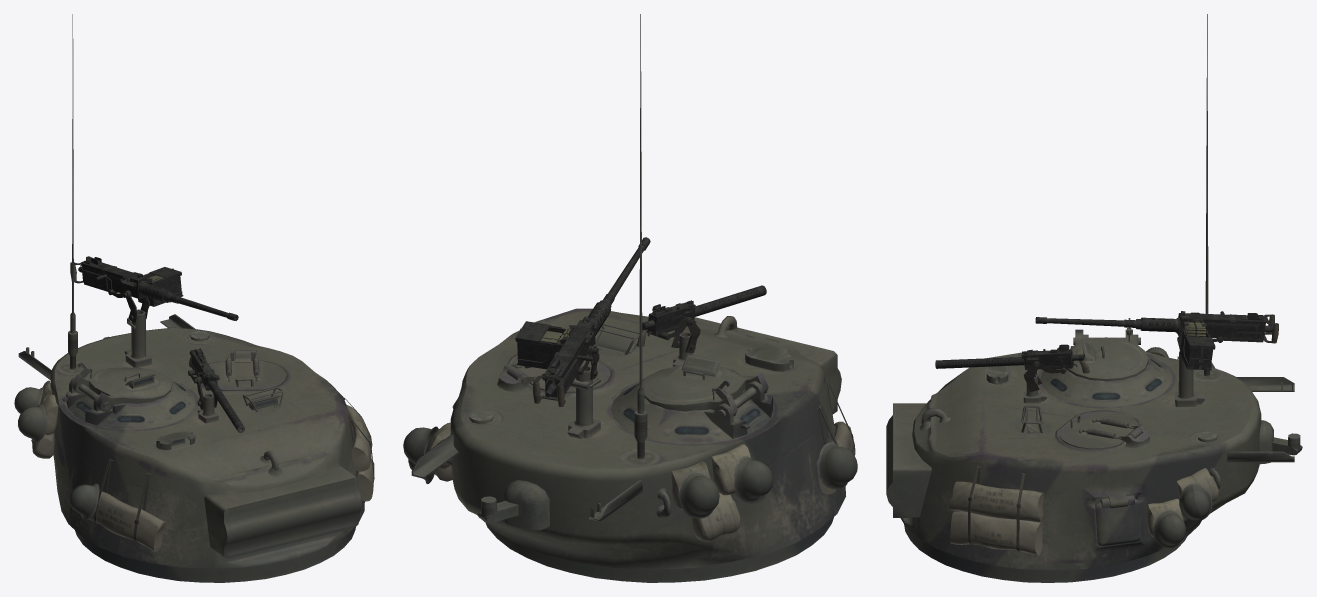
Rendered from FuryTurret.fbx.
3 views of the same model, side by side, from view 1: azimuth 30°, elevation 25°; view 2: azimuth 150°, elevation 25°; view 3: azimuth 270°, elevation 25° (orthographic). The views are drawn at different scales.
Visible parts, largest first — view 1: american\A104_M4A3E8A\normal\l\Turret_01.pri~6~6; view 2: american\A104_M4A3E8A\normal\l\Turret_01.pri~6~6; view 3: american\A104_M4A3E8A\normal\l\Turret_01.pri~6~6.
Boxes of the visible parts, <box> form: american\A104_M4A3E8A\normal\l\Turret_01.pri~6~6: <box>14,14,374,582</box>; american\A104_M4A3E8A\normal\l\Turret_01.pri~6~6: <box>403,14,857,582</box>; american\A104_M4A3E8A\normal\l\Turret_01.pri~6~6: <box>886,14,1302,582</box>.
Size of the model in its own units: 2.28 by 3.52 by 2.79.
Materials: 1 (1 with a texture image).
